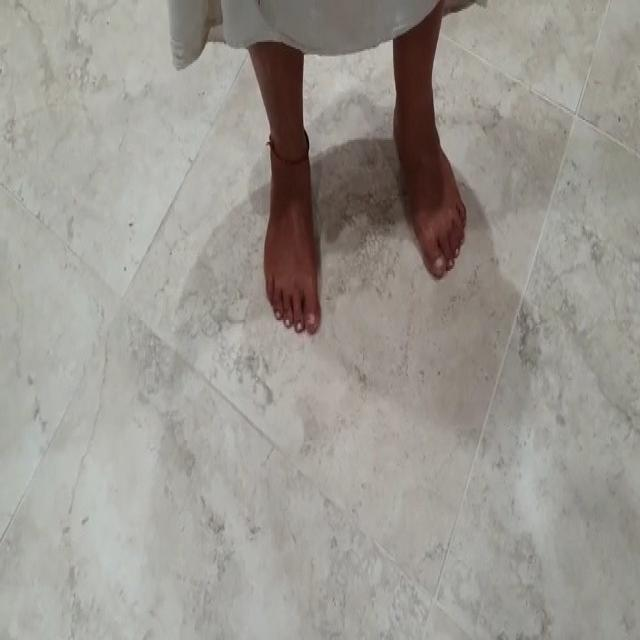no-boots: (390, 91, 470, 292), (260, 132, 334, 348)
